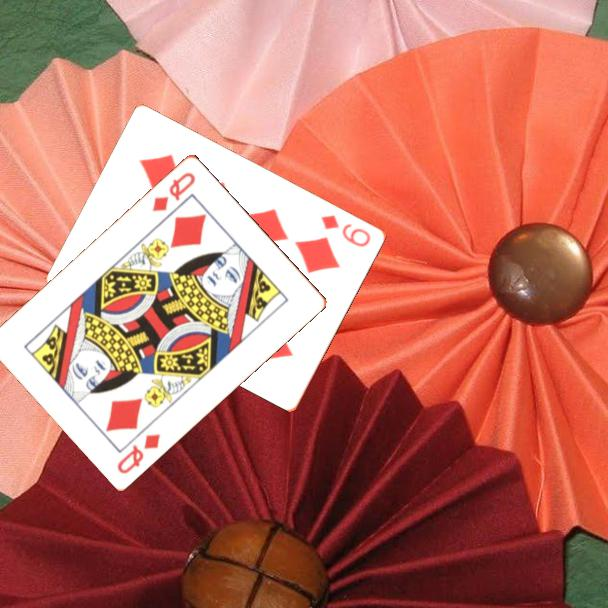d09: (318, 211, 374, 250)
d12: (148, 168, 199, 214), (114, 430, 163, 476)
